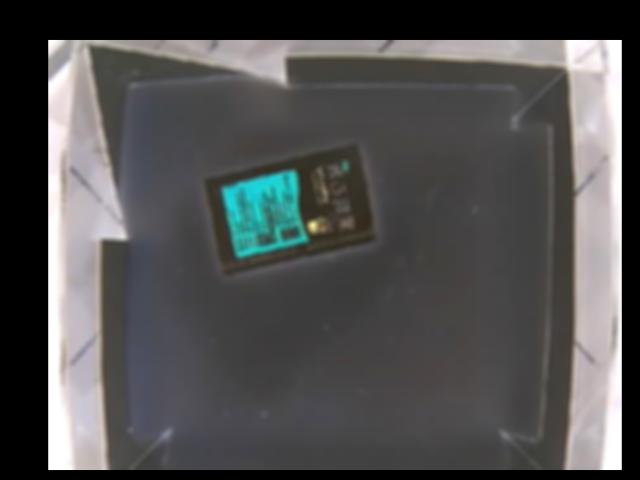Medicine: (201, 142, 375, 275)
